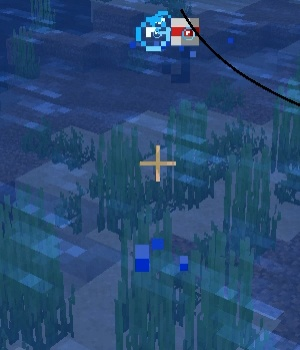up: (162, 8, 205, 82)
